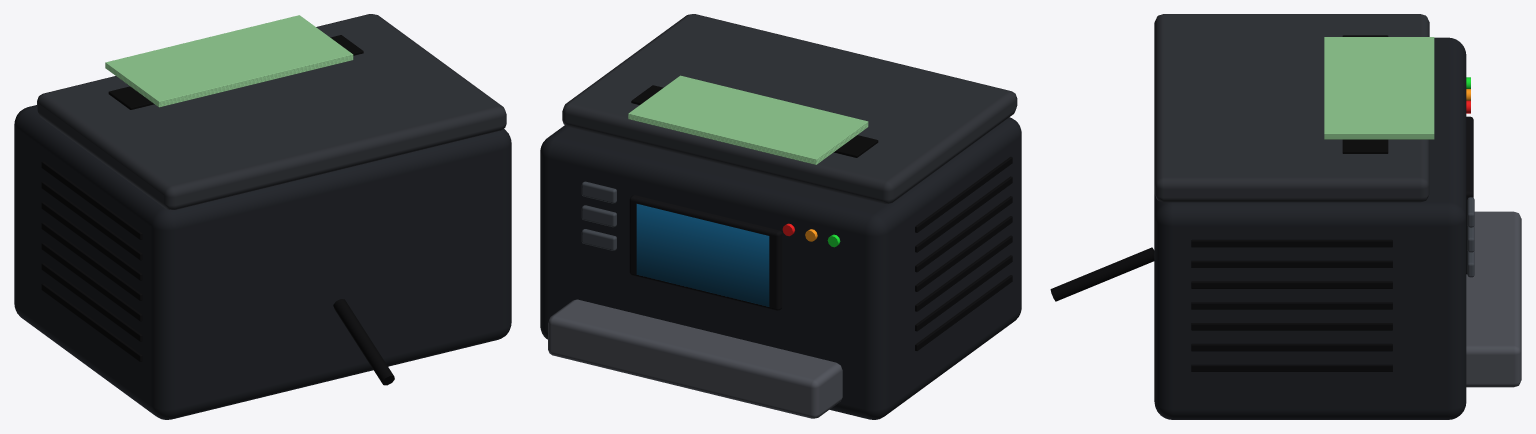
File: MoneyPrinter.obj
3 views of the same model, side by side, from view 1: azimuth 30°, elevation 25°; view 2: azimuth 150°, elevation 25°; view 3: azimuth 270°, elevation 25° (orthographic). The views are drawn at different scales.
Bounding box in the file's own units: 0.466 × 0.3026 × 0.5133.
